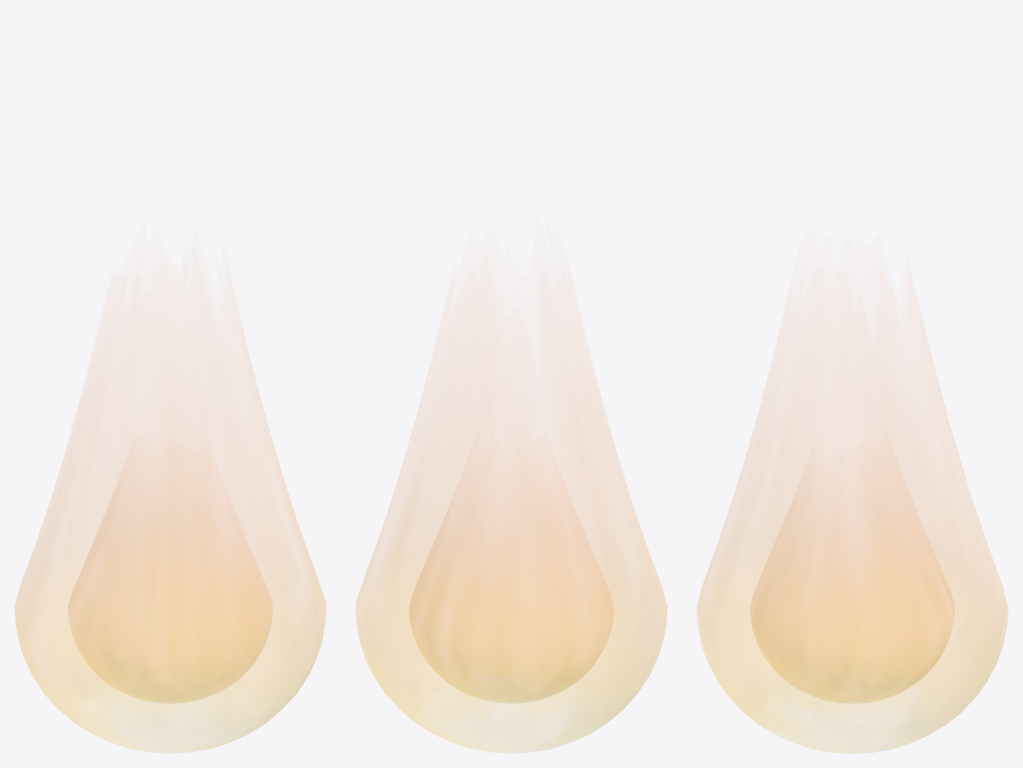
The model's file is head_fire.glb.
The picture shows the model from 3 angles, left to right: view 1: azimuth 30°, elevation 25°; view 2: azimuth 150°, elevation 25°; view 3: azimuth 270°, elevation 25°; orthographic projection.
Parts seen in each view (by area): view 1: head; view 2: head; view 3: head.
Boxes of the visible parts, bbox=[...] form: head: bbox=[15, 401, 325, 753]; head: bbox=[356, 404, 666, 753]; head: bbox=[697, 400, 1007, 753].
Bounding box in the file's own units: 3.5 × 8.96 × 3.5.
Materials: 2 (2 with a texture image).
